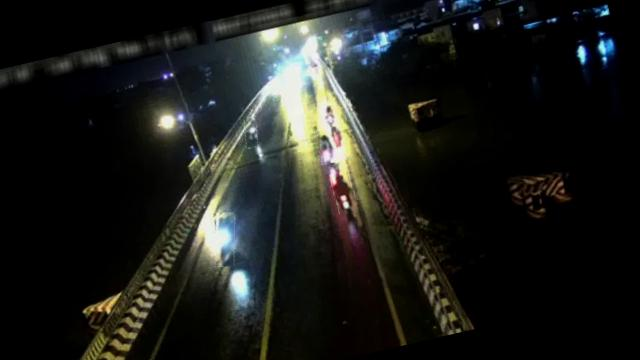Bike: (207, 210, 243, 270), (329, 170, 358, 216), (314, 128, 338, 165), (241, 118, 260, 150), (322, 104, 338, 128)
